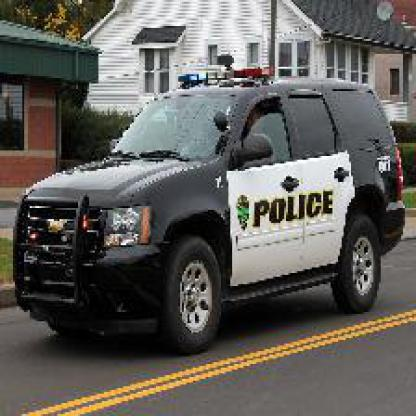emergency: (21, 69, 401, 349)
